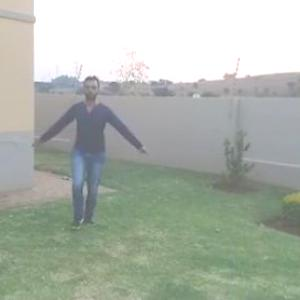land: (43, 78, 148, 212)
